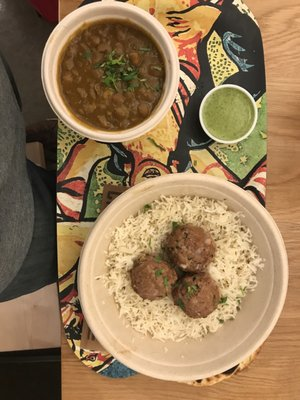curry: (100, 51, 139, 94)
pizza: (199, 84, 263, 146)
sushi: (77, 173, 290, 384), (40, 1, 180, 144)
